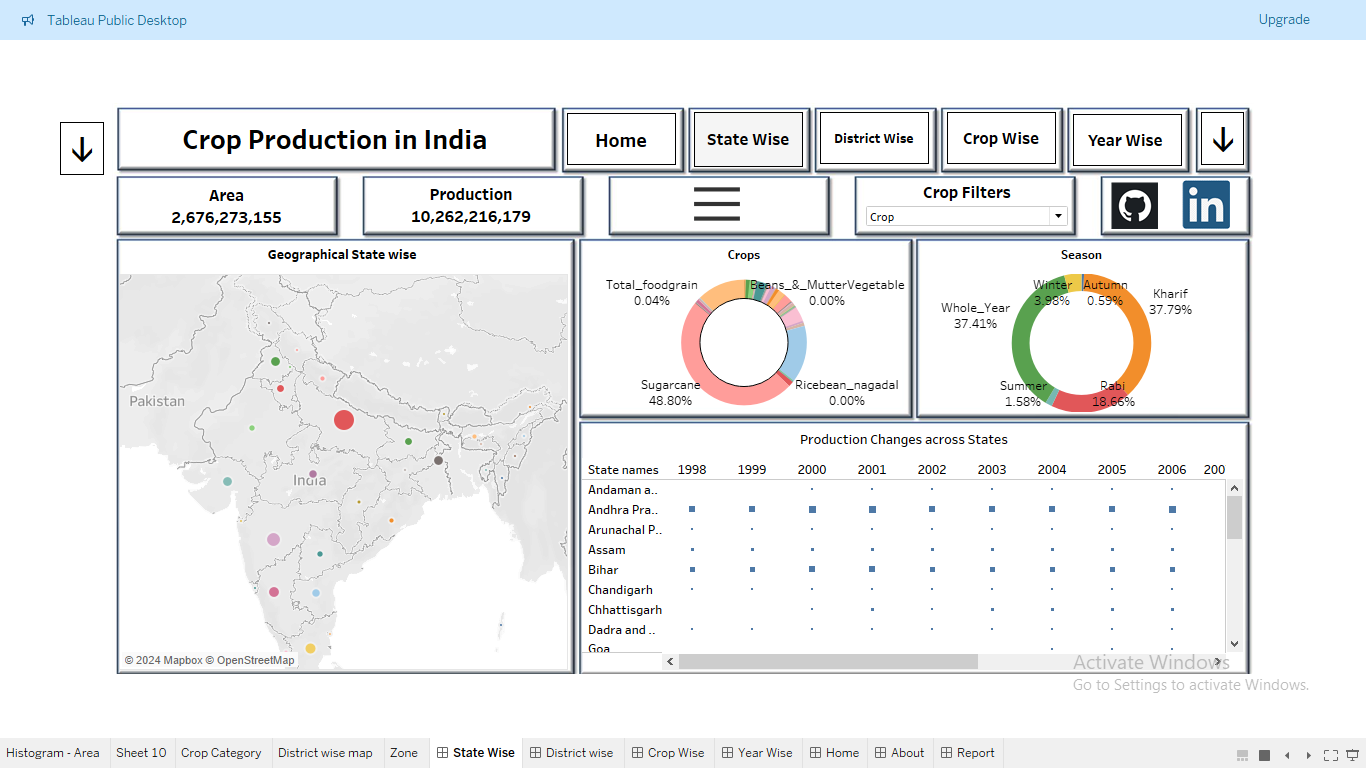

The dashboard page shown, as its layout file describes it:
{"tool":"tableau","page":{"name":"State Wise","canvas":[1150,600],"ordinal":5},"visuals":[{"type":"image","param":"Image/CPII 2.jpg","box":[0,0,1150,600]},{"type":"text","box":[14,23,426,52]},{"type":"dashboard-object","box":[586,23,109,55]},{"type":"dashboard-object","box":[712,23,109,52]},{"type":"dashboard-object","box":[839,23,109,52]},{"type":"dashboard-object","box":[1093,23,43,53]},{"type":"dashboard-object","box":[459,24,109,52]},{"type":"dashboard-object","box":[965,25,109,52]},{"type":"dashboard-object","box":[965,88,171,51]},{"type":"worksheet","title":"KPI ","mark":"Automatic","box":[258,90,210,49]},{"type":"dashboard-object","box":[505,90,209,50]},{"type":"image","param":"Image/linkedin.png","box":[1063,90,70,50]},{"type":"worksheet","title":"KPI","mark":"Automatic","box":[14,91,209,50]},{"type":"parameter","param":"[Parameters].[Parameter 3]","box":[755,92,208,47]},{"type":"image","param":"Image/github-6980894_1920.png","box":[1001,93,51,47]},{"type":"dashboard-object","box":[965,139,171,51]},{"type":"filter","title":"pie chart - season","param":"[federated.1tu41g31wm18641arbtzr10wprao].[none:Crop_Category:nk]","box":[502,147,220,62]},{"type":"worksheet","title":"SW - Geographical analysis","mark":"Automatic","box":[11,152,449,429]},{"type":"worksheet","title":"SW - pie chart - Crop","mark":"Pie","cols":["Calculation_311592810565988365","Calculation_311592810565988365"],"box":[474,153,324,169]},{"type":"worksheet","title":"pie chart - season","mark":"Pie","cols":["Calculation_311592810565988365","Calculation_311592810565988365"],"box":[813,153,321,170]},{"type":"filter","title":"pie chart - season","param":"[federated.1tu41g31wm18641arbtzr10wprao].[none:Crop_Year:qk]","box":[502,209,220,79]},{"type":"filter","title":"pie chart - season","param":"[federated.1tu41g31wm18641arbtzr10wprao].[none:Season:nk]","box":[502,288,220,62]},{"type":"worksheet","title":"SW - production changes across states","mark":"Automatic","rows":["Calculation_311592810542178305"],"cols":["Crop_Year"],"box":[474,337,661,244]},{"type":"filter","title":"pie chart - season","param":"[federated.1tu41g31wm18641arbtzr10wprao].[none:Calculation_311592810542178305:nk","box":[502,350,220,62]},{"type":"filter","title":"pie chart - season","param":"[federated.1tu41g31wm18641arbtzr10wprao].[none:Zone:nk]","box":[502,412,220,62]},{"type":"filter","title":"pie chart - season","param":"[federated.1tu41g31wm18641arbtzr10wprao].[none:Crop:nk]","box":[502,474,220,62]}]}

Visuals, with their boxes on the page's 1150x600 design canvas (x1, y1, x2, y2). These are canvas units, not pixel positions in the 1366x768 screenshot, which may show the page scaled, cropped or inside an application window:
image: (x1=0, y1=0, x2=1150, y2=600)
text: (x1=14, y1=23, x2=440, y2=75)
dashboard-object: (x1=586, y1=23, x2=695, y2=78)
dashboard-object: (x1=712, y1=23, x2=821, y2=75)
dashboard-object: (x1=839, y1=23, x2=948, y2=75)
dashboard-object: (x1=1093, y1=23, x2=1136, y2=76)
dashboard-object: (x1=459, y1=24, x2=568, y2=76)
dashboard-object: (x1=965, y1=25, x2=1074, y2=77)
dashboard-object: (x1=965, y1=88, x2=1136, y2=139)
"KPI " worksheet: (x1=258, y1=90, x2=468, y2=139)
dashboard-object: (x1=505, y1=90, x2=714, y2=140)
image: (x1=1063, y1=90, x2=1133, y2=140)
"KPI" worksheet: (x1=14, y1=91, x2=223, y2=141)
parameter: (x1=755, y1=92, x2=963, y2=139)
image: (x1=1001, y1=93, x2=1052, y2=140)
dashboard-object: (x1=965, y1=139, x2=1136, y2=190)
"pie chart - season" filter: (x1=502, y1=147, x2=722, y2=209)
"SW - Geographical analysis" worksheet: (x1=11, y1=152, x2=460, y2=581)
"SW - pie chart - Crop" worksheet (Pie marks): (x1=474, y1=153, x2=798, y2=322)
"pie chart - season" worksheet (Pie marks): (x1=813, y1=153, x2=1134, y2=323)
"pie chart - season" filter: (x1=502, y1=209, x2=722, y2=288)
"pie chart - season" filter: (x1=502, y1=288, x2=722, y2=350)
"SW - production changes across states" worksheet: (x1=474, y1=337, x2=1135, y2=581)
"pie chart - season" filter: (x1=502, y1=350, x2=722, y2=412)
"pie chart - season" filter: (x1=502, y1=412, x2=722, y2=474)
"pie chart - season" filter: (x1=502, y1=474, x2=722, y2=536)
